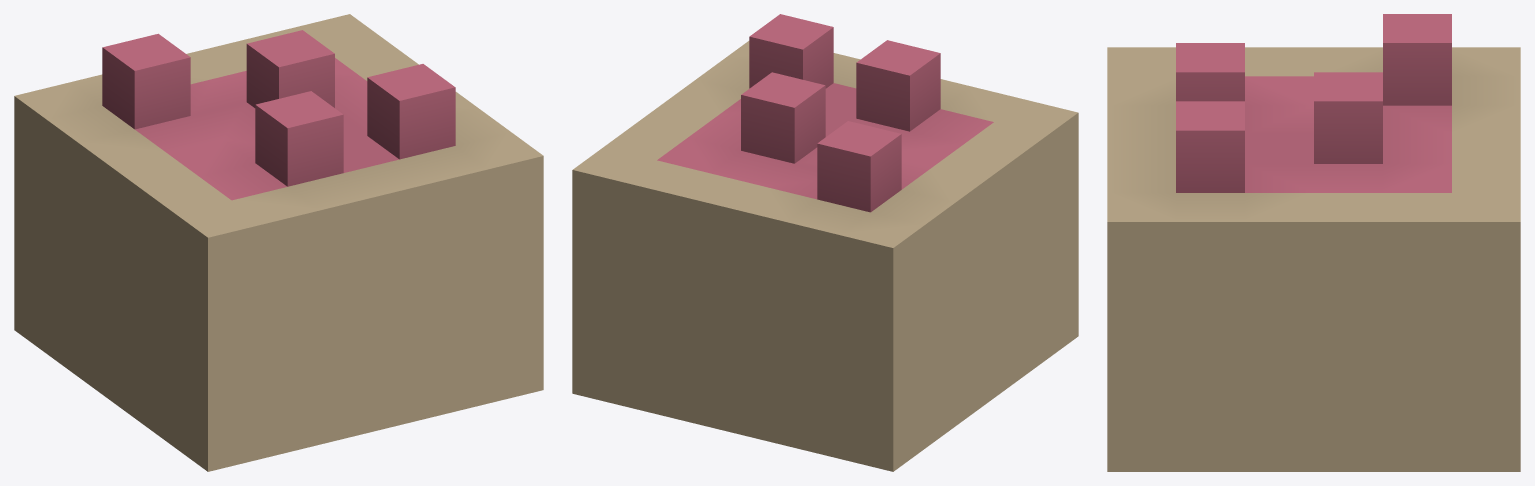
File: cageot_radis.glb
3 renders of one model, left to right at view 1: azimuth 30°, elevation 25°; view 2: azimuth 150°, elevation 25°; view 3: azimuth 270°, elevation 25°, orthographic. The views are drawn at different scales.
Visible parts, largest first — view 1: geometry_0; view 2: geometry_0; view 3: geometry_0.
Boxes of the visible parts, x1,y1,x2,y2 form: geometry_0: (14,14,543,471); geometry_0: (572,14,1078,471); geometry_0: (1107,14,1520,471).
Bounding box in the file's own units: 0.75 × 0.625 × 0.75.
